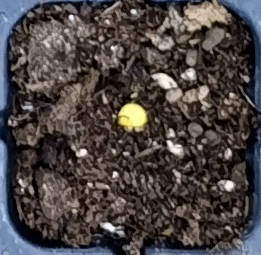pepper seed: (42, 39, 191, 166)
